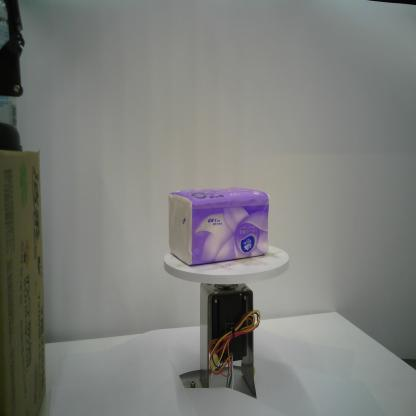Tissue: (165, 188, 270, 268)
